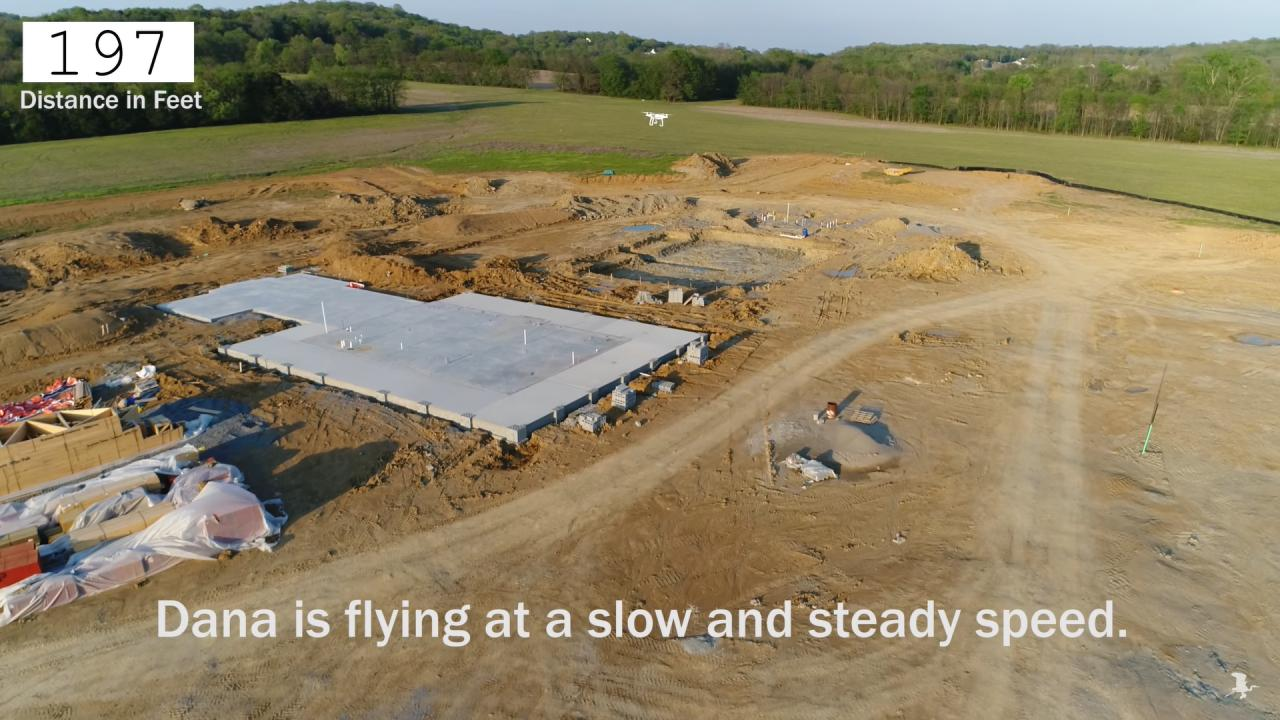Drone: (635, 104, 678, 134)
